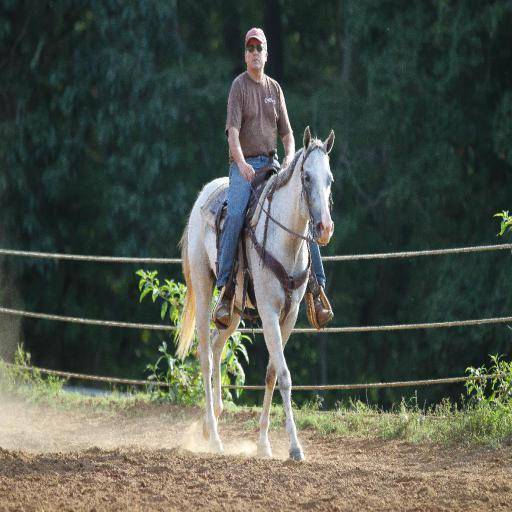horse: (172, 126, 335, 462)
